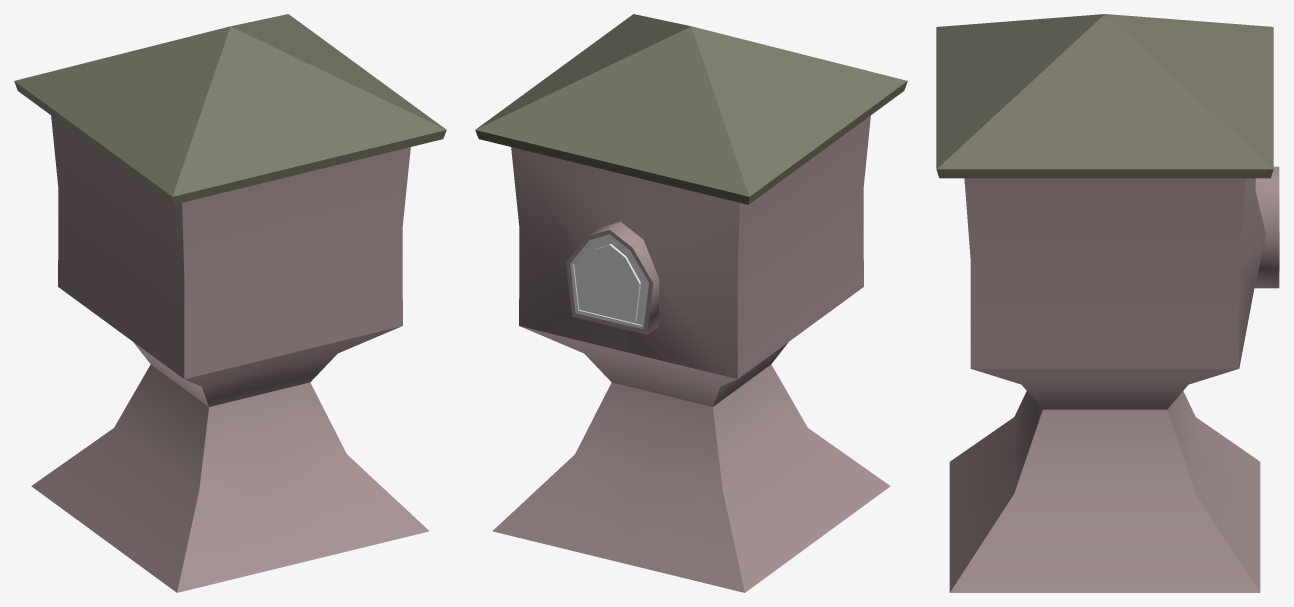
Rendered from Mailbox2.fbx.
The picture shows the model from 3 angles, left to right: view 1: azimuth 30°, elevation 25°; view 2: azimuth 150°, elevation 25°; view 3: azimuth 270°, elevation 25°; orthographic projection. The views are drawn at different scales.
Visible parts, largest first — view 1: pCube1; view 2: pCube1, polySurface2; view 3: pCube1.
Part boxes in pixels (<box>): pCube1: <box>14,14,446,592</box>; pCube1: <box>475,14,907,592</box>; polySurface2: <box>570,234,648,329</box>; pCube1: <box>936,14,1279,592</box>.
Bounding box in the file's own units: 2.12 × 3.56 × 2.16.
